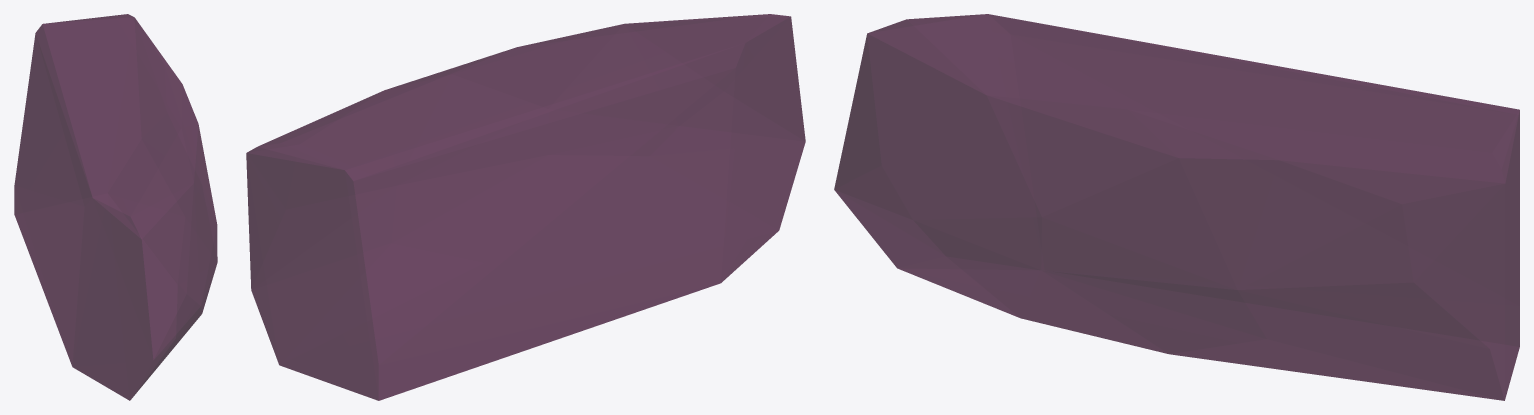
The picture shows the model from 3 angles, left to right: view 1: azimuth 30°, elevation 25°; view 2: azimuth 150°, elevation 25°; view 3: azimuth 270°, elevation 25°; orthographic projection. The views are drawn at different scales.
Parts seen in each view (by area): view 1: Shape_IndexedFaceSet.009_Shape_IndexedFaceSet.16779; view 2: Shape_IndexedFaceSet.009_Shape_IndexedFaceSet.16779; view 3: Shape_IndexedFaceSet.009_Shape_IndexedFaceSet.16779.
Boxes of the visible parts, <box> form: Shape_IndexedFaceSet.009_Shape_IndexedFaceSet.16779: <box>14,14,217,400</box>; Shape_IndexedFaceSet.009_Shape_IndexedFaceSet.16779: <box>246,14,805,400</box>; Shape_IndexedFaceSet.009_Shape_IndexedFaceSet.16779: <box>834,14,1519,400</box>.
Bounding box in the file's own units: 0.2441 × 0.1879 × 0.4544.
